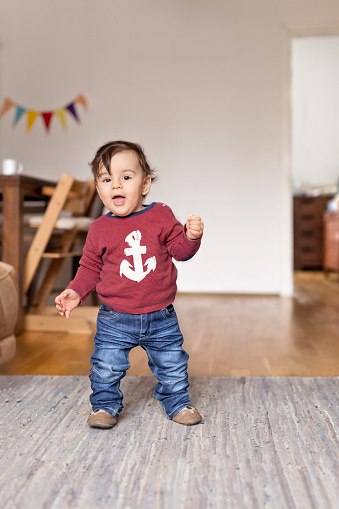em pe: (53, 140, 206, 445)
